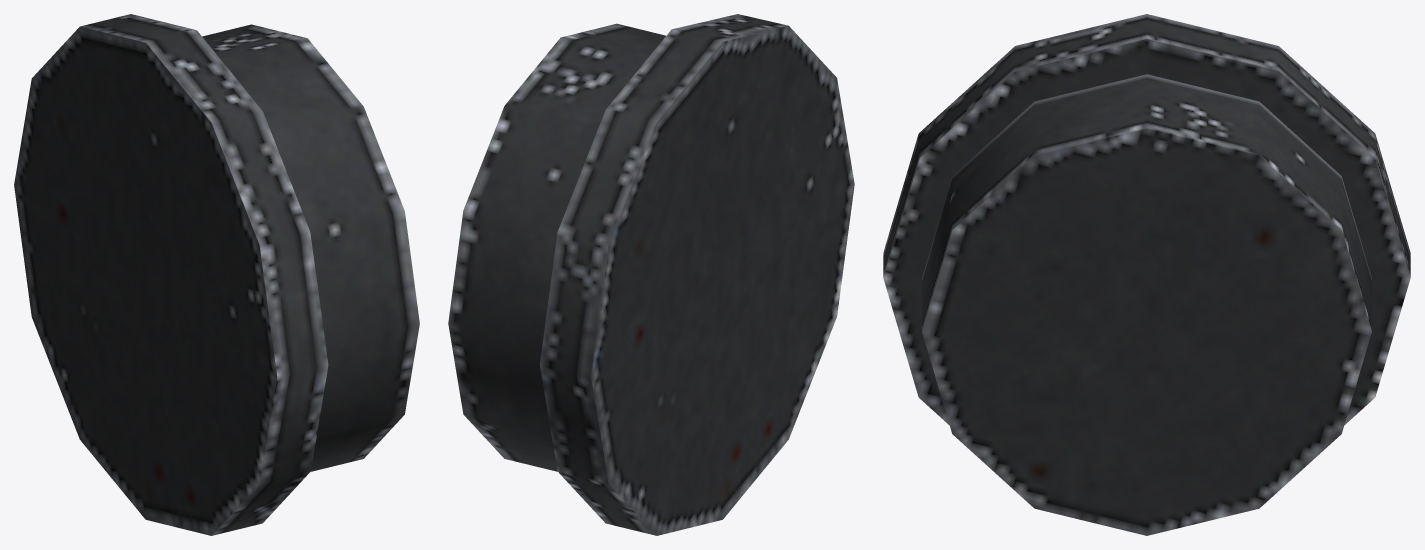
The model's file is pipe_lid.fbx.
The picture shows the model from 3 angles, left to right: view 1: azimuth 30°, elevation 25°; view 2: azimuth 150°, elevation 25°; view 3: azimuth 270°, elevation 25°; orthographic projection.
Parts seen in each view (by area): view 1: pipe_lid; view 2: pipe_lid; view 3: pipe_lid.
Part boxes in pixels (x1,y1,x2,y2): pipe_lid: (14,14,419,535); pipe_lid: (448,14,854,535); pipe_lid: (883,14,1410,535).
Size of the model in its own units: 5 by 14.07 by 14.07.
